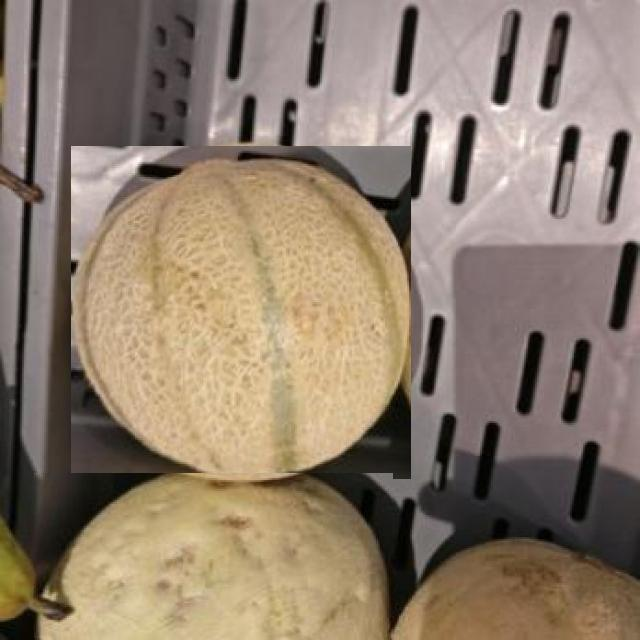Cantaloupe: (71, 145, 411, 479), (35, 473, 393, 638), (394, 539, 638, 638)
